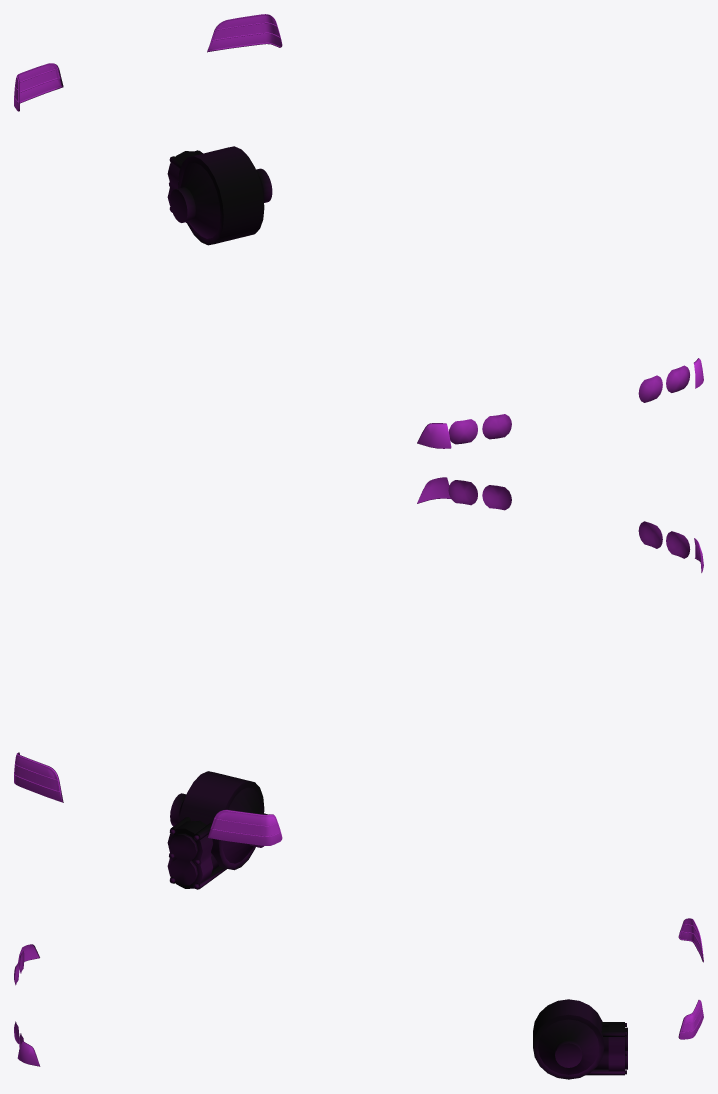
File: BMW_E36_Chassis_Detail.fbx
3 views of the same model, one above another, from view 1: azimuth 30°, elevation 25°; view 2: azimuth 150°, elevation 25°; view 3: azimuth 270°, elevation 25° (orthographic). The views are drawn at different scales.
Visible parts, largest first — view 1: BMW_E36_Chassis_Detail; view 2: BMW_E36_Chassis_Detail; view 3: BMW_E36_Chassis_Detail.
Part boxes in pixels (x1,y1,x2,y2): BMW_E36_Chassis_Detail: [14, 14, 703, 448]; BMW_E36_Chassis_Detail: [14, 477, 703, 889]; BMW_E36_Chassis_Detail: [14, 918, 703, 1079].
Bounding box in the file's own units: 1.54 × 0.7004 × 4.12.
